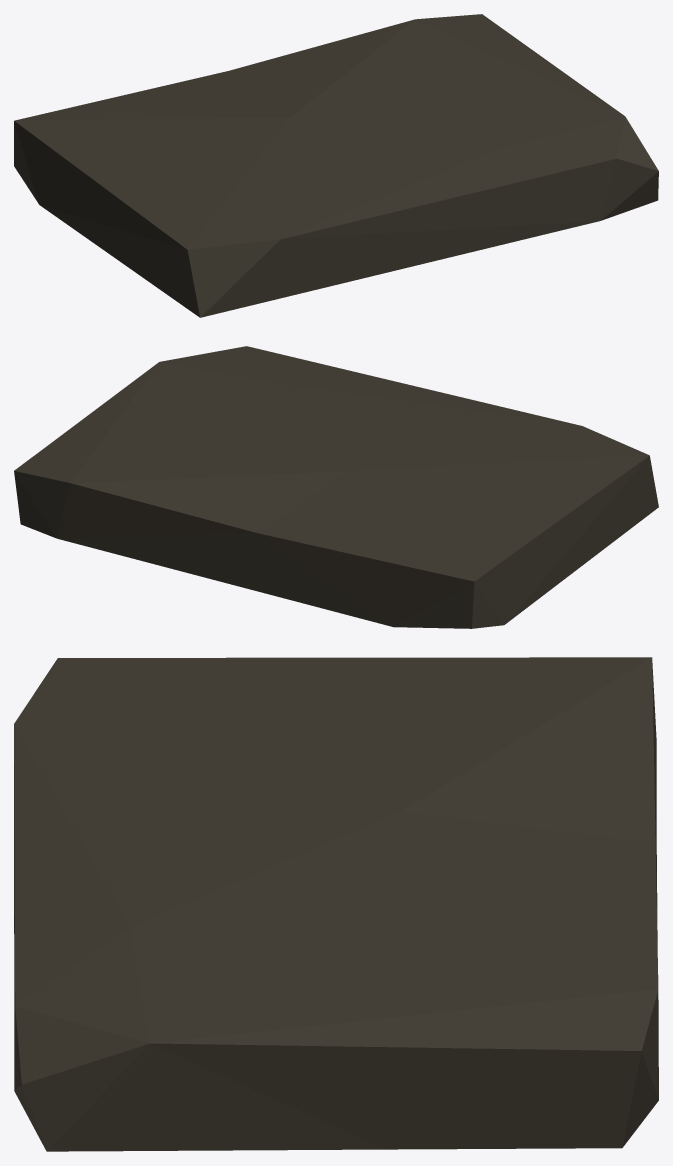
The model's file is Stairs_Single_1.fbx.
3 views of the same model, one above another, from view 1: azimuth 30°, elevation 25°; view 2: azimuth 150°, elevation 25°; view 3: azimuth 270°, elevation 25° (orthographic). The views are drawn at different scales.
Parts seen in each view (by area): view 1: Group38239; view 2: Group38239; view 3: Group38239.
Part boxes in pixels (x1=…): Group38239: x1=14, y1=14, x2=658, y2=317; Group38239: x1=14, y1=346, x2=658, y2=628; Group38239: x1=14, y1=657, x2=658, y2=1151.
Size of the model in its own units: 3.22 by 0.4858 by 2.26.
